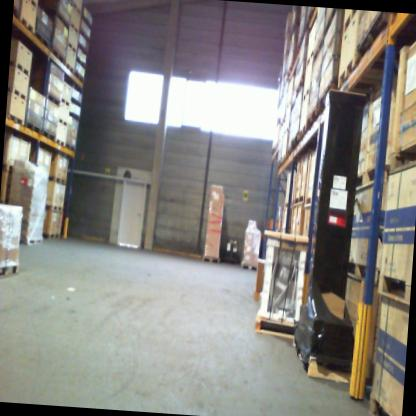pallet: (354, 10, 409, 65), (252, 309, 297, 340), (387, 138, 416, 184), (356, 158, 390, 197), (376, 269, 411, 304), (333, 52, 360, 95), (366, 390, 404, 416), (317, 79, 340, 121), (345, 257, 376, 284), (321, 8, 341, 47), (338, 9, 361, 39), (0, 260, 23, 283), (9, 61, 32, 79), (305, 106, 317, 138), (314, 33, 326, 65), (22, 120, 44, 137), (17, 16, 36, 35), (7, 87, 30, 102), (34, 32, 51, 52), (48, 174, 71, 187), (50, 48, 65, 67), (7, 114, 27, 128), (238, 260, 259, 273), (41, 127, 56, 145), (43, 92, 62, 106), (19, 237, 45, 246), (200, 256, 223, 266), (298, 121, 308, 143), (69, 96, 83, 110), (75, 54, 87, 70), (306, 48, 315, 69), (70, 0, 82, 15), (42, 231, 61, 240), (21, 0, 38, 10), (68, 110, 81, 123), (68, 22, 80, 36), (77, 43, 89, 57), (46, 204, 64, 213), (13, 5, 22, 22), (302, 87, 310, 106), (293, 195, 305, 207), (73, 71, 85, 83), (67, 40, 77, 54), (64, 63, 75, 75), (2, 162, 15, 172), (65, 143, 76, 154), (60, 97, 71, 108), (56, 117, 68, 127), (54, 138, 65, 147), (303, 196, 312, 206)
